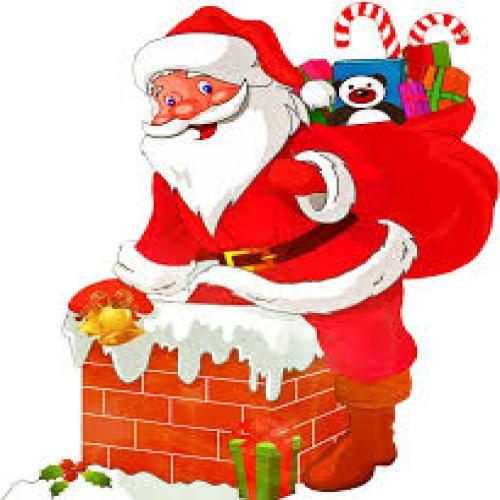Santa: (63, 3, 417, 491)
